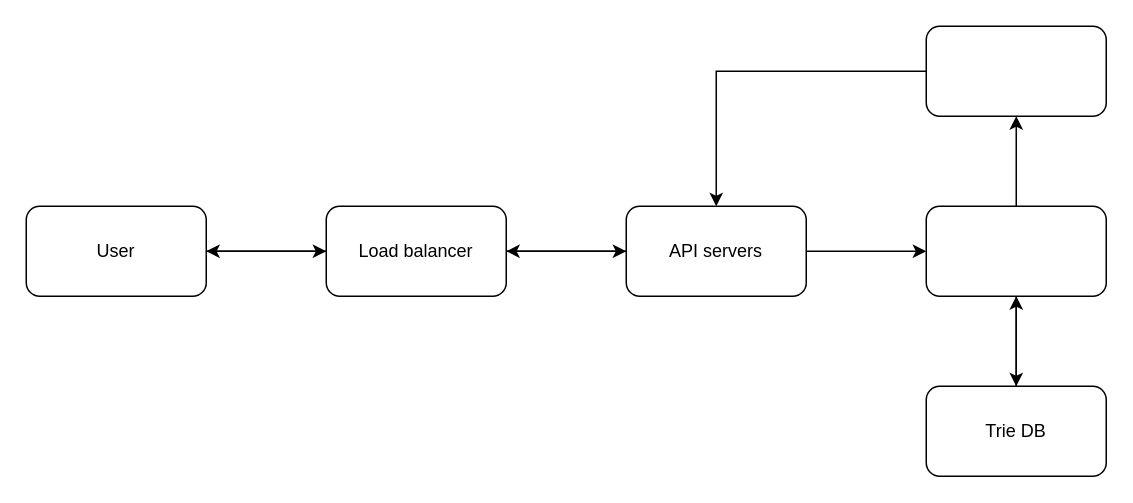
The diagram is 1133 pixels wide and 503 high, and some of its shapes have lost their labels. The box of each missing label's shape, as (x1, y1, x2, y2) in pixels:
Filter: (925, 25, 1106, 116)
Trie Cache: (925, 205, 1106, 296)
